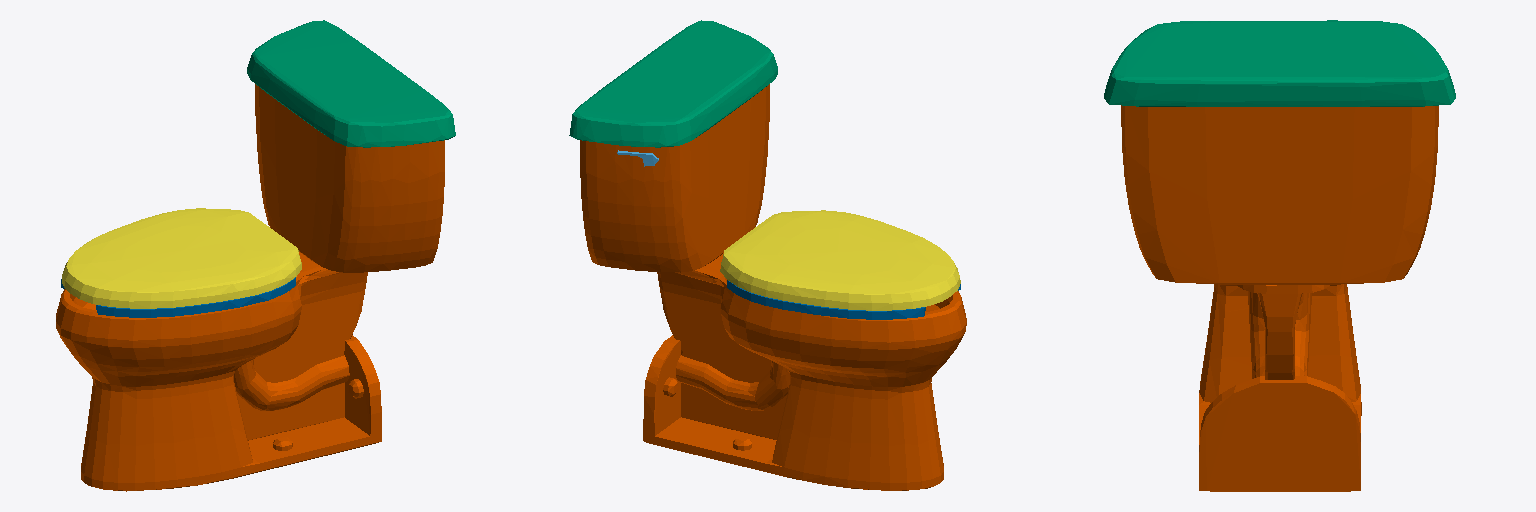
URDF robot description (partnet_67c3a3b6597af8428cf95d369fd3aa28):
<robot name="partnet_67c3a3b6597af8428cf95d369fd3aa28">
	<link name="base" />
	<link name="link_0">
		<collision>
			<origin xyz="0.4243351284875918 -0.5746627397692186 0.24853928722531338" />
			<geometry>
				<mesh filename="new_objs/102645_link_0_1.obj" />
			</geometry>
		</collision>
	<collision>
			<origin xyz="0.4243351284875918 -0.5746627397692186 0.24853928722531338" />
			<geometry>
				<mesh filename="new_objs/102645_link_0_2.obj" />
			</geometry>
		</collision>
	<collision>
			<origin xyz="0.4243351284875918 -0.5746627397692186 0.24853928722531338" />
			<geometry>
				<mesh filename="new_objs/102645_link_0_0.obj" />
			</geometry>
		</collision>
	<visual name="button-part[&quot;id]">
			<origin xyz="0.4243351284875918 -0.5746627397692186 0.24853928722531338" />
			<geometry>
				<mesh filename="textured_objs/original-6.obj" />
			</geometry>
		</visual>
		</link>
	<joint name="joint_0" type="revolute">
		<origin xyz="-0.4243351284875918 0.5746627397692186 -0.24853928722531338" />
		<axis xyz="-0.933848590188053 -0.003571076254257753 0.3576507486615568" />
		<child link="link_0" />
		<parent link="link_4" />
		<limit lower="0.0" upper="0.5235987755982988" />
	</joint>
	<link name="link_1">
		<collision>
			<origin xyz="0 0 0" />
			<geometry>
				<mesh filename="new_objs/102645_link_1_0.obj" />
			</geometry>
		</collision>
	<visual name="lid-part[&quot;id]">
			<origin xyz="0 0 0" />
			<geometry>
				<mesh filename="textured_objs/original-1.obj" />
			</geometry>
		</visual>
		</link>
	<joint name="joint_1" type="prismatic">
		<origin xyz="0 0 0" />
		<axis xyz="0 1 0" />
		<child link="link_1" />
		<parent link="link_4" />
		<limit lower="0" upper="0.03" />
	</joint>
	<link name="link_2">
		<collision>
			<origin xyz="0 -0.04855379253905999 0.04893435595590388" />
			<geometry>
				<mesh filename="new_objs/102645_link_2_0.obj" />
			</geometry>
		</collision>
	<visual name="lid-part[&quot;id]">
			<origin xyz="0 -0.04855379253905999 0.04893435595590388" />
			<geometry>
				<mesh filename="textured_objs/original-12.obj" />
			</geometry>
		</visual>
		</link>
	<joint name="joint_2" type="revolute">
		<origin xyz="0 0.04855379253905999 -0.04893435595590388" />
		<axis xyz="-1 0 0" />
		<child link="link_2" />
		<parent link="link_4" />
		<limit lower="-0.0" upper="1.5707963267948966" />
	</joint>
	<link name="link_3">
		<collision>
			<origin xyz="0 -0.04855379253905999 0.04893435595590388" />
			<geometry>
				<mesh filename="new_objs/102645_link_3_1.obj" />
			</geometry>
		</collision>
	<collision>
			<origin xyz="0 -0.04855379253905999 0.04893435595590388" />
			<geometry>
				<mesh filename="new_objs/102645_link_3_0.obj" />
			</geometry>
		</collision>
	<collision>
			<origin xyz="0 -0.04855379253905999 0.04893435595590388" />
			<geometry>
				<mesh filename="new_objs/102645_link_3_3.obj" />
			</geometry>
		</collision>
	<collision>
			<origin xyz="0 -0.04855379253905999 0.04893435595590388" />
			<geometry>
				<mesh filename="new_objs/102645_link_3_2.obj" />
			</geometry>
		</collision>
	<visual name="seat-part[&quot;id]">
			<origin xyz="0 -0.04855379253905999 0.04893435595590388" />
			<geometry>
				<mesh filename="textured_objs/original-11.obj" />
			</geometry>
		</visual>
		</link>
	<joint name="joint_3" type="revolute">
		<origin xyz="0 0.04855379253905999 -0.04893435595590388" />
		<axis xyz="-1 0 0" />
		<child link="link_3" />
		<parent link="link_4" />
		<limit lower="-0.0" upper="1.5707963267948966" />
	</joint>
	<link name="link_4">
		<collision>
			<origin xyz="0 0 0" />
			<geometry>
				<mesh filename="new_objs/102645_link_4_19.obj" />
			</geometry>
		</collision>
		<collision>
			<origin xyz="0 0 0" />
			<geometry>
				<mesh filename="new_objs/102645_link_4_13.obj" />
			</geometry>
		</collision>
		<collision>
			<origin xyz="0 0 0" />
			<geometry>
				<mesh filename="new_objs/102645_link_4_2.obj" />
			</geometry>
		</collision>
		<collision>
			<origin xyz="0 0 0" />
			<geometry>
				<mesh filename="new_objs/102645_link_4_0.obj" />
			</geometry>
		</collision>
		<collision>
			<origin xyz="0 0 0" />
			<geometry>
				<mesh filename="new_objs/102645_link_4_18.obj" />
			</geometry>
		</collision>
		<collision>
			<origin xyz="0 0 0" />
			<geometry>
				<mesh filename="new_objs/102645_link_4_9.obj" />
			</geometry>
		</collision>
		<collision>
			<origin xyz="0 0 0" />
			<geometry>
				<mesh filename="new_objs/102645_link_4_14.obj" />
			</geometry>
		</collision>
		<collision>
			<origin xyz="0 0 0" />
			<geometry>
				<mesh filename="new_objs/102645_link_4_1.obj" />
			</geometry>
		</collision>
		<collision>
			<origin xyz="0 0 0" />
			<geometry>
				<mesh filename="new_objs/102645_link_4_8.obj" />
			</geometry>
		</collision>
		<collision>
			<origin xyz="0 0 0" />
			<geometry>
				<mesh filename="new_objs/102645_link_4_16.obj" />
			</geometry>
		</collision>
		<collision>
			<origin xyz="0 0 0" />
			<geometry>
				<mesh filename="new_objs/102645_link_4_20.obj" />
			</geometry>
		</collision>
		<collision>
			<origin xyz="0 0 0" />
			<geometry>
				<mesh filename="new_objs/102645_link_4_10.obj" />
			</geometry>
		</collision>
		<collision>
			<origin xyz="0 0 0" />
			<geometry>
				<mesh filename="new_objs/102645_link_4_11.obj" />
			</geometry>
		</collision>
		<collision>
			<origin xyz="0 0 0" />
			<geometry>
				<mesh filename="new_objs/102645_link_4_7.obj" />
			</geometry>
		</collision>
		<collision>
			<origin xyz="0 0 0" />
			<geometry>
				<mesh filename="new_objs/102645_link_4_4.obj" />
			</geometry>
		</collision>
		<collision>
			<origin xyz="0 0 0" />
			<geometry>
				<mesh filename="new_objs/102645_link_4_21.obj" />
			</geometry>
		</collision>
		<collision>
			<origin xyz="0 0 0" />
			<geometry>
				<mesh filename="new_objs/102645_link_4_17.obj" />
			</geometry>
		</collision>
		<collision>
			<origin xyz="0 0 0" />
			<geometry>
				<mesh filename="new_objs/102645_link_4_6.obj" />
			</geometry>
		</collision>
		<collision>
			<origin xyz="0 0 0" />
			<geometry>
				<mesh filename="new_objs/102645_link_4_3.obj" />
			</geometry>
		</collision>
		<collision>
			<origin xyz="0 0 0" />
			<geometry>
				<mesh filename="new_objs/102645_link_4_15.obj" />
			</geometry>
		</collision>
		<collision>
			<origin xyz="0 0 0" />
			<geometry>
				<mesh filename="new_objs/102645_link_4_5.obj" />
			</geometry>
		</collision>
		<collision>
			<origin xyz="0 0 0" />
			<geometry>
				<mesh filename="new_objs/102645_link_4_12.obj" />
			</geometry>
		</collision>
		<visual name="base_body-part[&quot;id]">
			<origin xyz="0 0 0" />
			<geometry>
				<mesh filename="textured_objs/original-4.obj" />
			</geometry>
		</visual>
		<visual name="base_body-part[&quot;id]">
			<origin xyz="0 0 0" />
			<geometry>
				<mesh filename="textured_objs/original-3.obj" />
			</geometry>
		</visual>
		<visual name="base_body-part[&quot;id]">
			<origin xyz="0 0 0" />
			<geometry>
				<mesh filename="textured_objs/original-2.obj" />
			</geometry>
		</visual>
		<visual name="base_body-part[&quot;id]">
			<origin xyz="0 0 0" />
			<geometry>
				<mesh filename="textured_objs/original-8.obj" />
			</geometry>
		</visual>
		<visual name="base_body-part[&quot;id]">
			<origin xyz="0 0 0" />
			<geometry>
				<mesh filename="textured_objs/original-9.obj" />
			</geometry>
		</visual>
		<visual name="base_body-part[&quot;id]">
			<origin xyz="0 0 0" />
			<geometry>
				<mesh filename="textured_objs/original-5.obj" />
			</geometry>
		</visual>
		<visual name="base_body-part[&quot;id]">
			<origin xyz="0 0 0" />
			<geometry>
				<mesh filename="textured_objs/original-7.obj" />
			</geometry>
		</visual>
		<visual name="base_body-part[&quot;id]">
			<origin xyz="0 0 0" />
			<geometry>
				<mesh filename="textured_objs/original-10.obj" />
			</geometry>
		</visual>
		</link>
	<joint name="joint_4" type="fixed">
		<origin rpy="1.570796326794897 0 -1.570796326794897" xyz="0 0 0" />
		<child link="link_4" />
		<parent link="base" />
	</joint>
</robot>

--- What the picture shows (computed from the rendered views, not written in the file) ---
3 views of the same robot in one strip: view 1: azimuth 30°, elevation 25°; view 2: azimuth 150°, elevation 25°; view 3: azimuth 270°, elevation 25° (orthographic).
Model partnet_67c3a3b6597af8428cf95d369fd3aa28 with 6 links and 5 joints (3 revolute, 1 prismatic, 1 fixed), rooted at base, posed every joint at zero.
Links seen in each view (by area): view 1: link_4, link_2, link_1, link_3; view 2: link_4, link_2, link_1, link_3; view 3: link_4, link_1.
Link boxes in pixels (left/top/right/bottom): link_4: left=56, top=84, right=444, bottom=491; link_2: left=62, top=208, right=301, bottom=308; link_1: left=247, top=20, right=455, bottom=147; link_3: left=61, top=277, right=295, bottom=317; link_4: left=580, top=84, right=966, bottom=490; link_2: left=720, top=210, right=960, bottom=310; link_1: left=569, top=20, right=777, bottom=147; link_3: left=727, top=280, right=960, bottom=319; link_4: left=1121, top=105, right=1438, bottom=491; link_1: left=1104, top=20, right=1455, bottom=106.
Size in the robot's own frame: 1.46 by 1.05 by 1.45 metres.
Meshes: 12 distinct files referenced, 12 mesh visuals loaded (12 OBJ).
